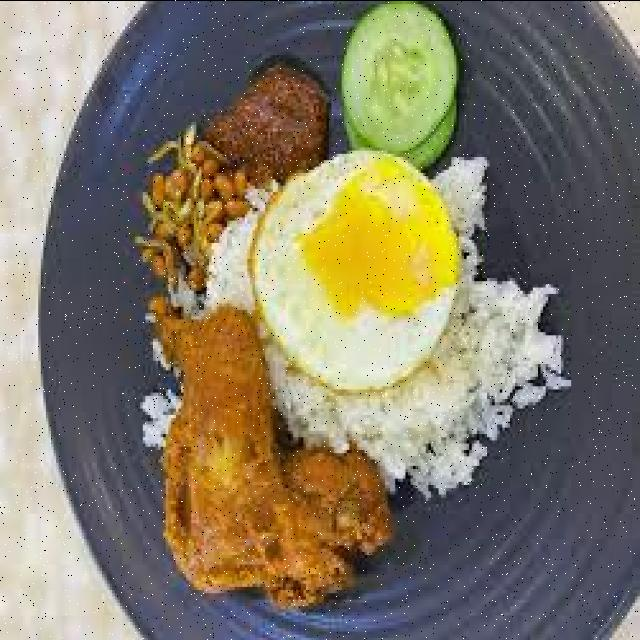Chicken: (158, 309, 390, 608)
Egg: (252, 153, 454, 388)
Green veg: (342, 3, 456, 169)
Rice: (260, 159, 569, 497), (207, 217, 252, 302)
